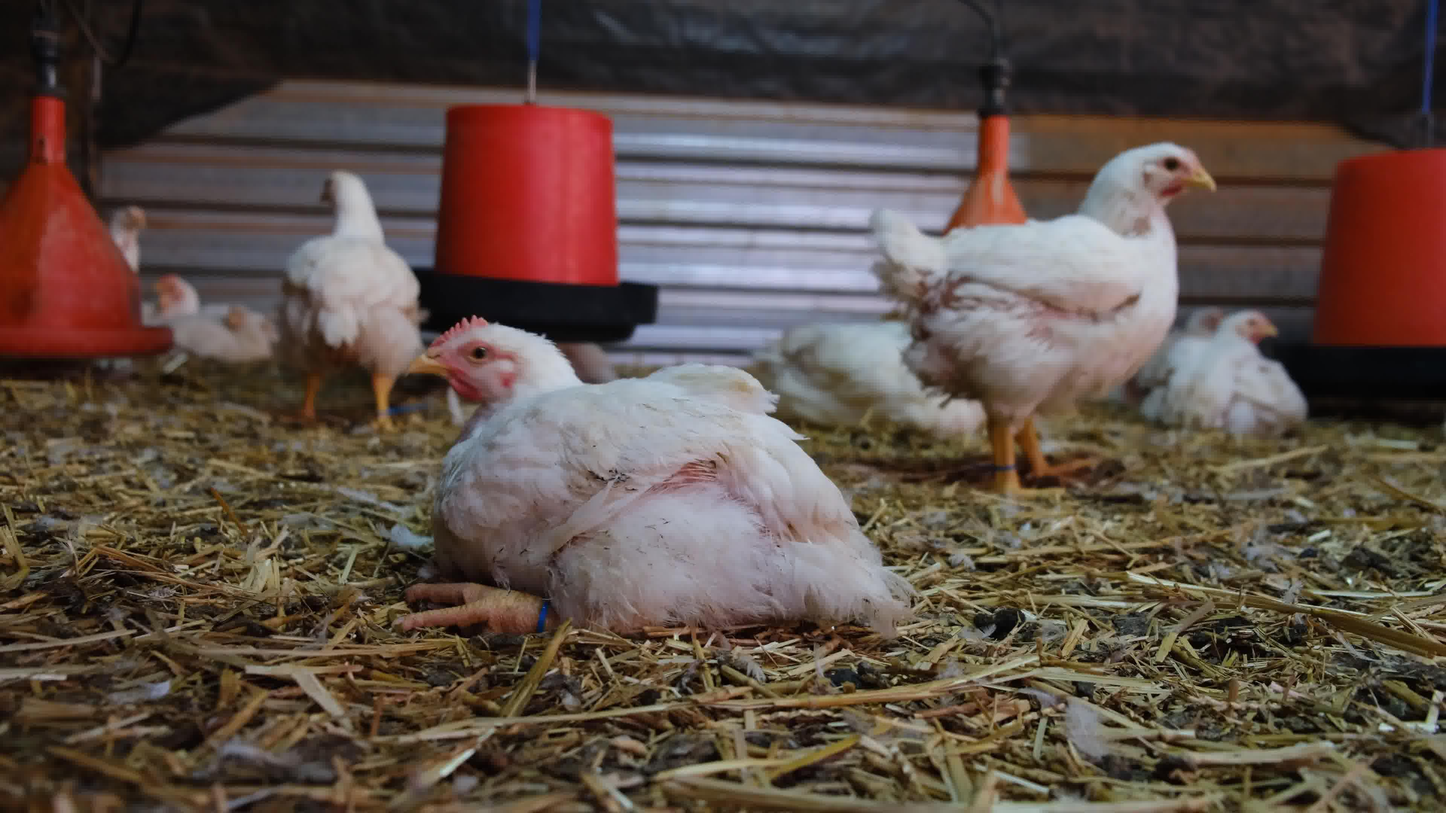AbNormal: (399, 260, 915, 691), (734, 273, 1034, 474), (1182, 297, 1337, 463), (151, 258, 279, 384), (1162, 262, 1261, 401)
Normal: (836, 81, 1231, 510), (279, 147, 465, 429), (64, 154, 188, 307)
